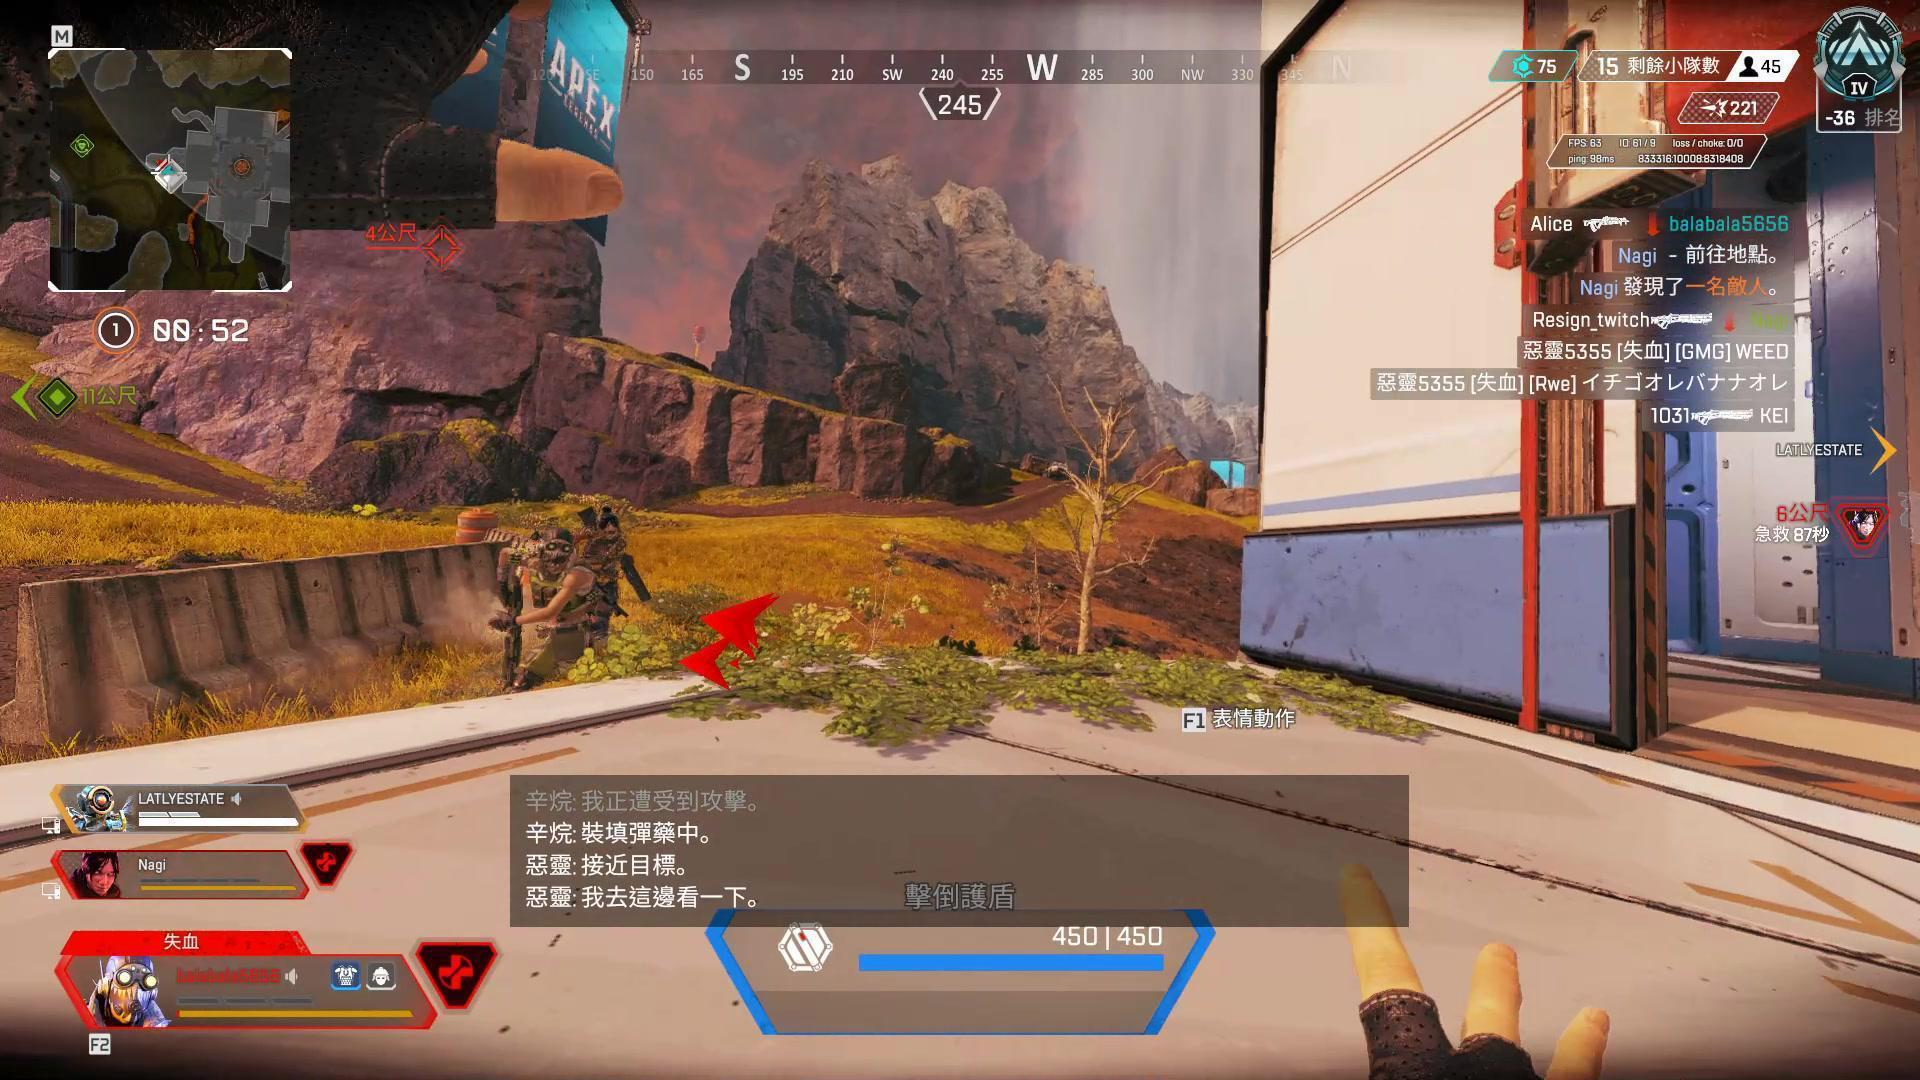avatar: (494, 524, 597, 696)
